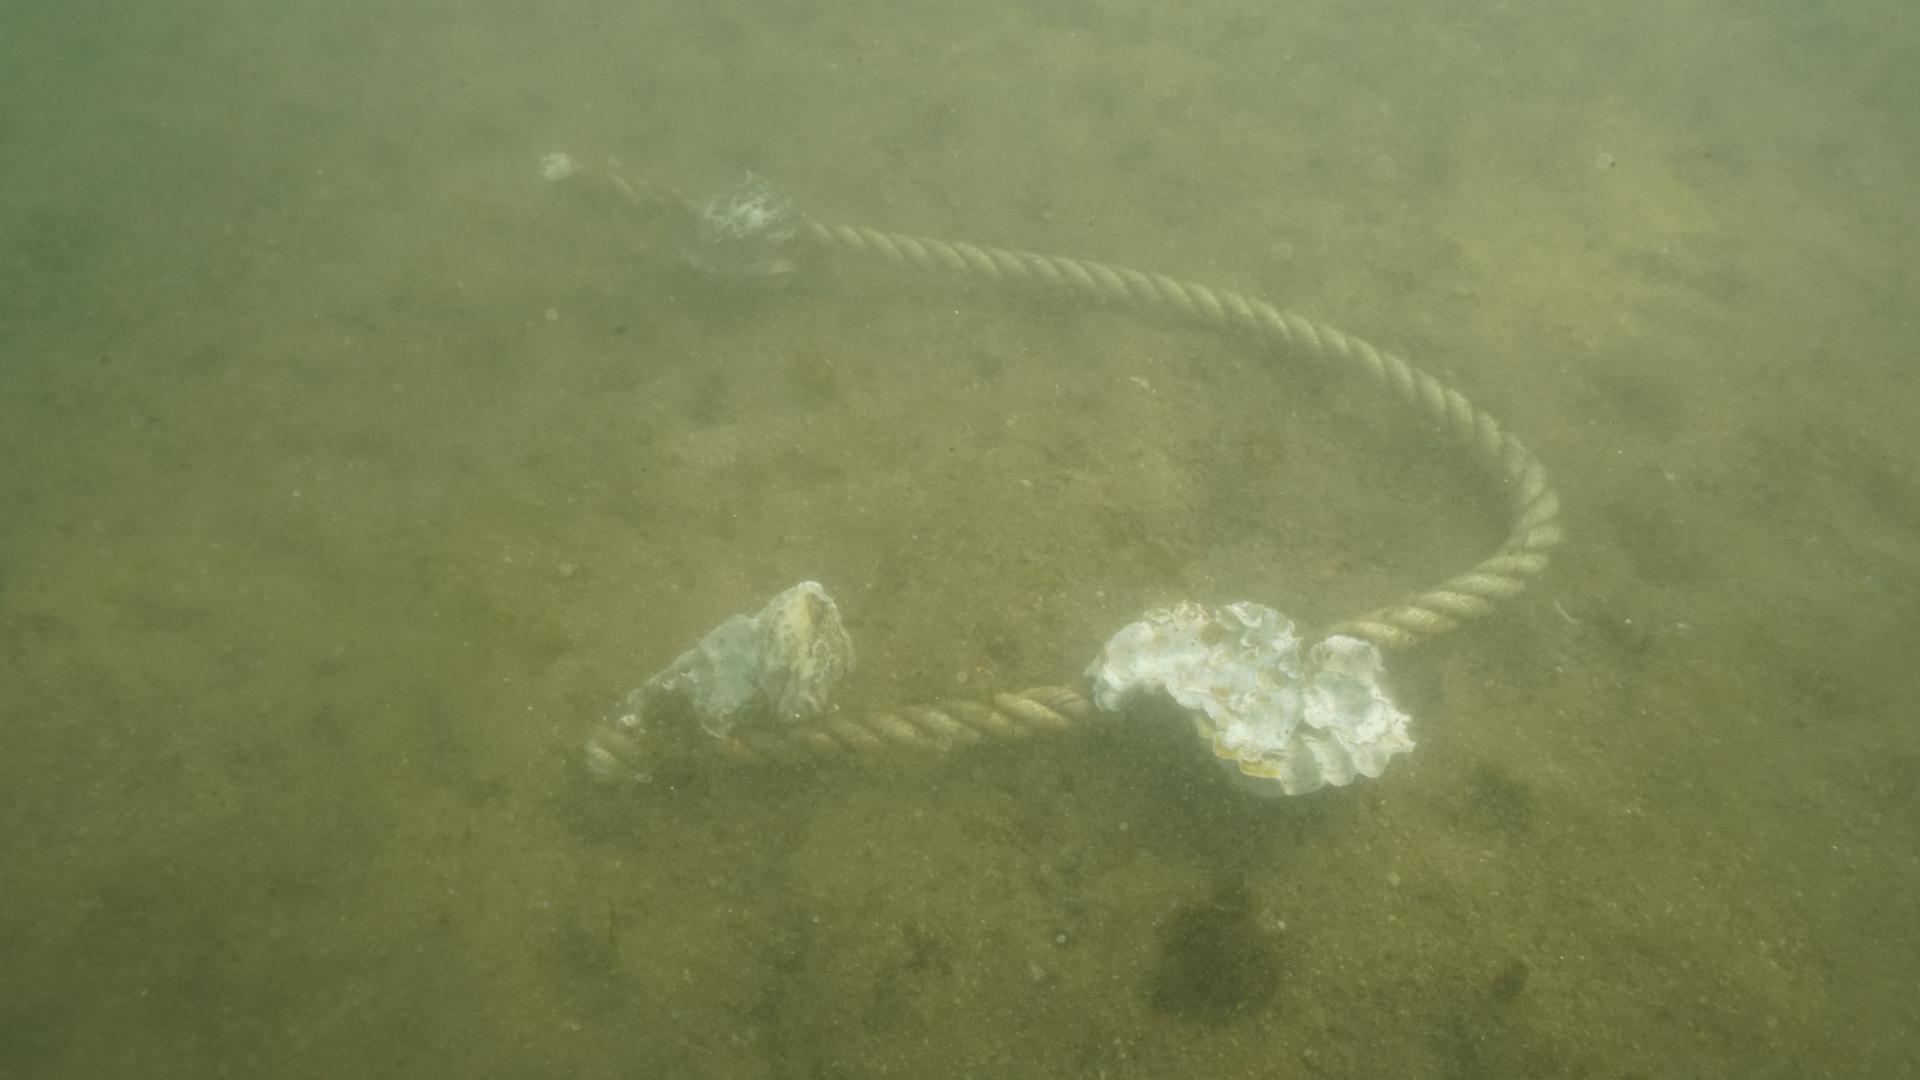rope: (531, 152, 1568, 786)
